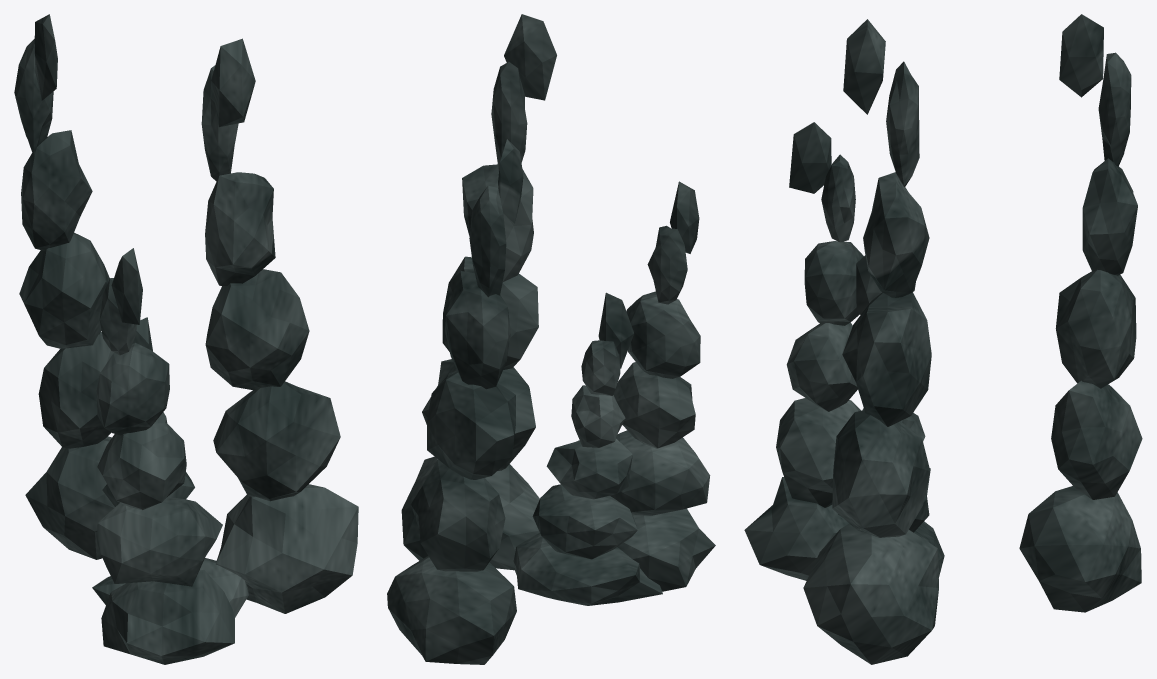
The model's file is 0051_rock_spire_01.glb.
The picture shows the model from 3 angles, left to right: view 1: azimuth 30°, elevation 25°; view 2: azimuth 150°, elevation 25°; view 3: azimuth 270°, elevation 25°; orthographic projection. The views are drawn at different scales.
Parts seen in each view (by area): view 1: stone_dark; view 2: stone_dark; view 3: stone_dark.
Part boxes in pixels (left/top/right/bottom): stone_dark: left=14, top=14, right=358, bottom=664; stone_dark: left=387, top=14, right=715, bottom=664; stone_dark: left=744, top=14, right=1142, bottom=664.
Size of the model in its own units: 1.61 by 3.27 by 1.99.
1 material, 1 textured.
